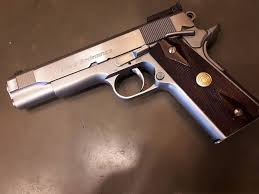Arma Real: (6, 3, 259, 143)
